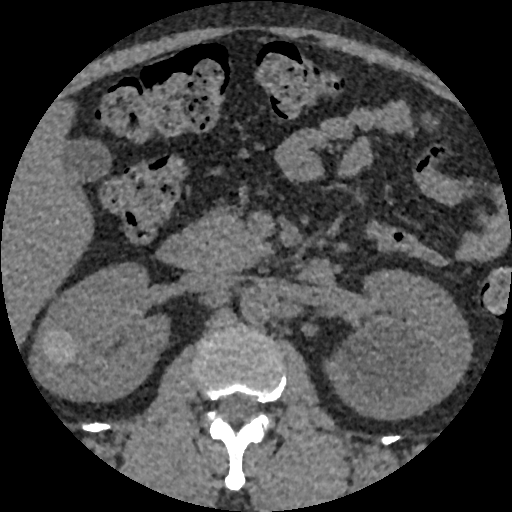Lesion: (40, 326, 79, 370)
